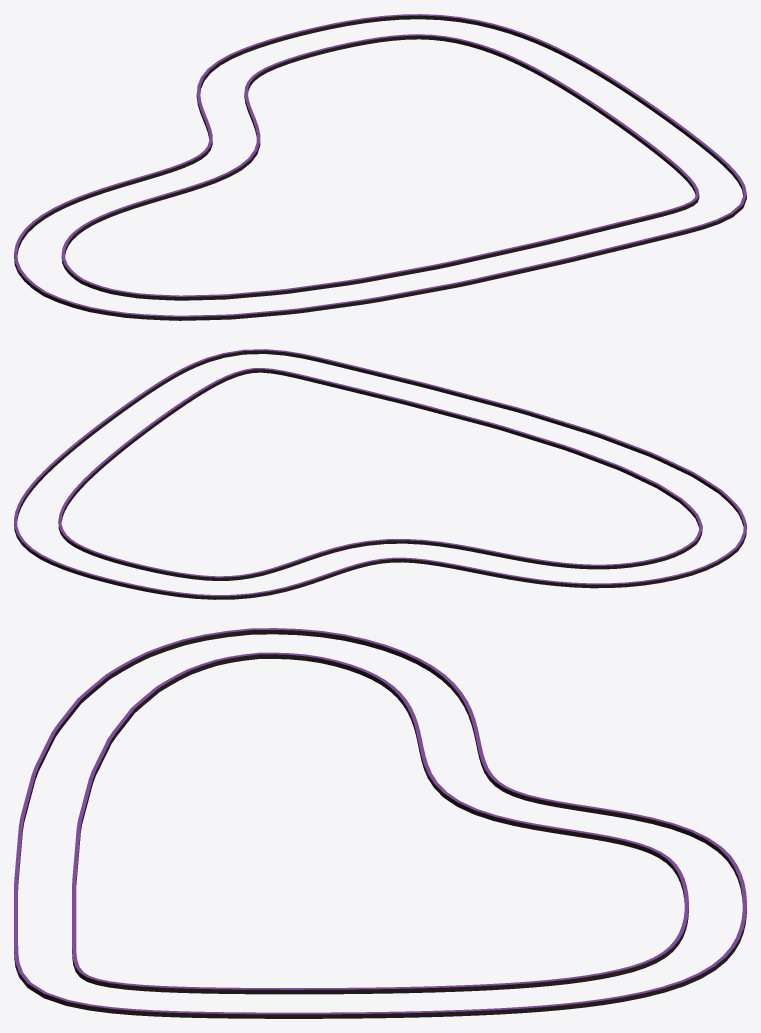
The model's file is border.fbx.
The picture shows the model from 3 angles, top to bottom: view 1: azimuth 30°, elevation 25°; view 2: azimuth 150°, elevation 25°; view 3: azimuth 270°, elevation 25°; orthographic projection. The views are drawn at different scales.
Visible parts, largest first — view 1: Plane; view 2: Plane; view 3: Plane.
Boxes of the visible parts, x1,y1,x2,y2 form: Plane: (14,14,746,320); Plane: (14,349,746,599); Plane: (14,628,746,1018).
Size of the model in its own units: 1635 by 8.96 by 1312.
